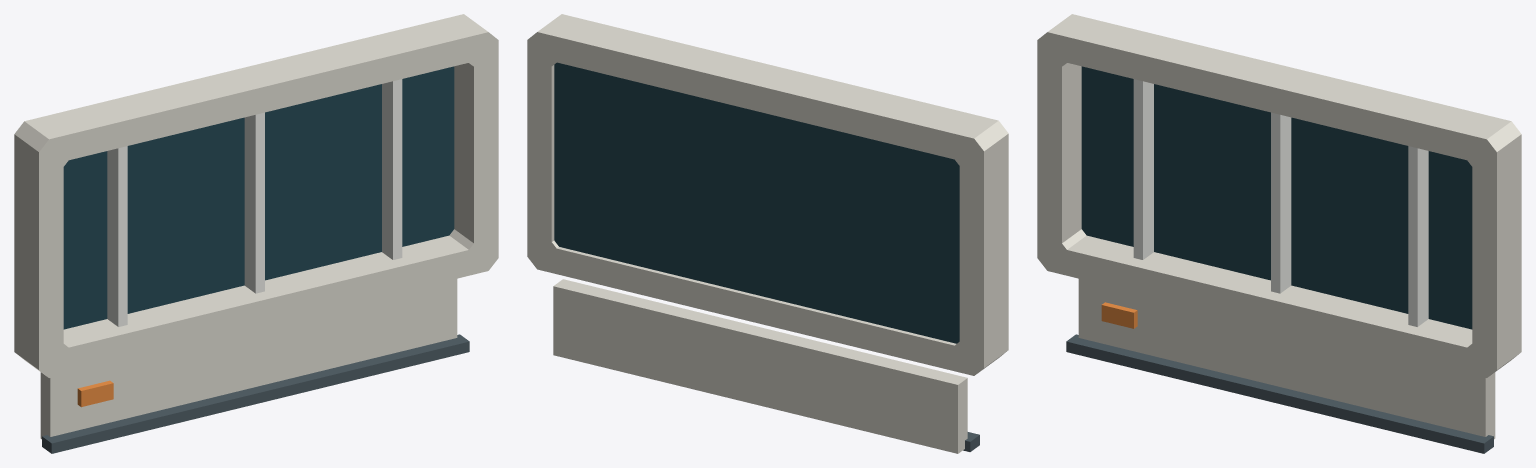
The model's file is FacadeCivic.fbx.
3 views of the same model, side by side, from view 1: azimuth 30°, elevation 25°; view 2: azimuth 150°, elevation 25°; view 3: azimuth 330°, elevation 25° (orthographic).
Visible parts, largest first — view 1: FacadeCivic_SC_Concrete, FacadeCivic_SC_Glass, FacadeCivic_SC_White, FacadeCivic_SC_Metal, FacadeCivic_SC_Orange; view 2: FacadeCivic_SC_Concrete, FacadeCivic_SC_Glass; view 3: FacadeCivic_SC_Concrete, FacadeCivic_SC_Glass, FacadeCivic_SC_White, FacadeCivic_SC_Metal, FacadeCivic_SC_Orange.
Boxes of the visible parts, x1=… form: FacadeCivic_SC_Concrete: x1=14, y1=14, x2=498, y2=439; FacadeCivic_SC_Glass: x1=63, y1=66, x2=454, y2=329; FacadeCivic_SC_White: x1=107, y1=79, x2=402, y2=326; FacadeCivic_SC_Metal: x1=42, y1=334, x2=469, y2=453; FacadeCivic_SC_Orange: x1=77, y1=380, x2=113, y2=407; FacadeCivic_SC_Concrete: x1=527, y1=14, x2=1008, y2=453; FacadeCivic_SC_Glass: x1=554, y1=62, x2=959, y2=343; FacadeCivic_SC_Concrete: x1=1037, y1=14, x2=1521, y2=439; FacadeCivic_SC_Glass: x1=1081, y1=66, x2=1472, y2=329; FacadeCivic_SC_White: x1=1133, y1=79, x2=1428, y2=326; FacadeCivic_SC_Metal: x1=1066, y1=334, x2=1493, y2=453; FacadeCivic_SC_Orange: x1=1101, y1=302, x2=1137, y2=328.
Bounding box in the file's own units: 2.98 × 2 × 0.278.
